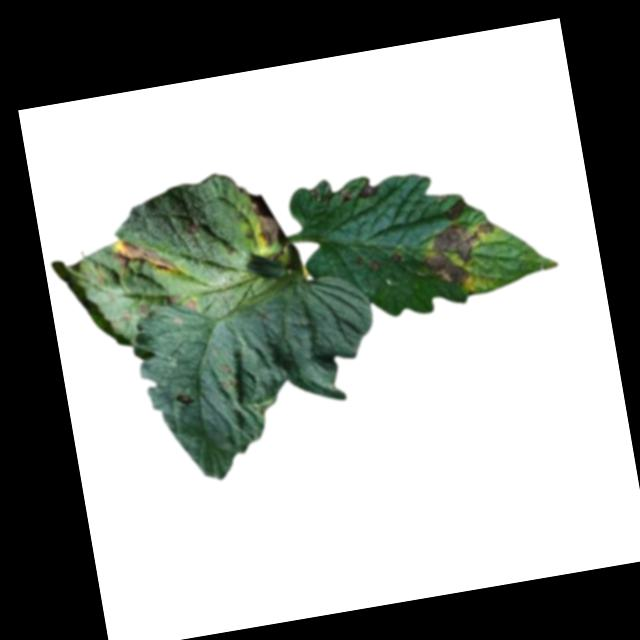Early_blight: (420, 218, 506, 294), (110, 229, 179, 278), (248, 189, 287, 250), (356, 180, 384, 200), (175, 389, 196, 407), (186, 296, 201, 312), (390, 248, 403, 264), (369, 254, 380, 268)
